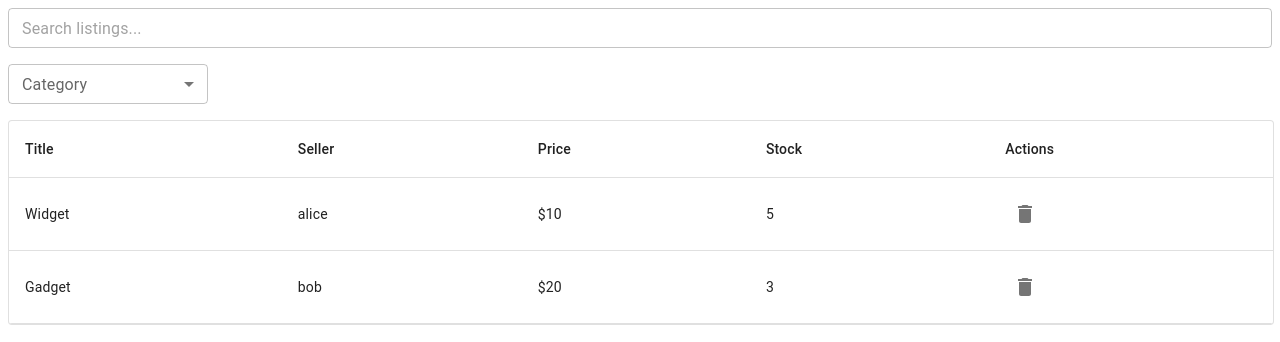
Test case: filters listings by search
Expected: the text "Widget" is shown, [9,178,282,250]
Type "Gad" into the field with placeholder "Search listings..." at (640, 28), box [8,8,1272,48]
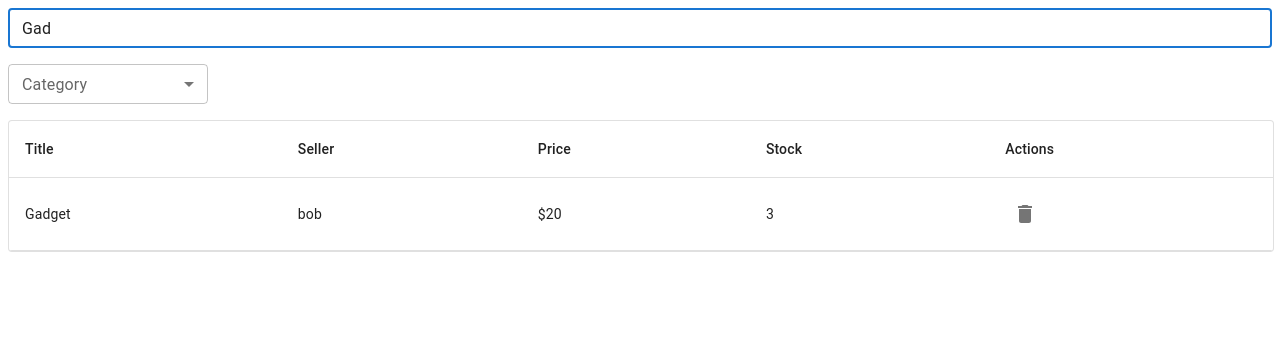
Expected: the text "Gadget" is shown, [9,178,282,250]
Now the text "Widget" is gone
